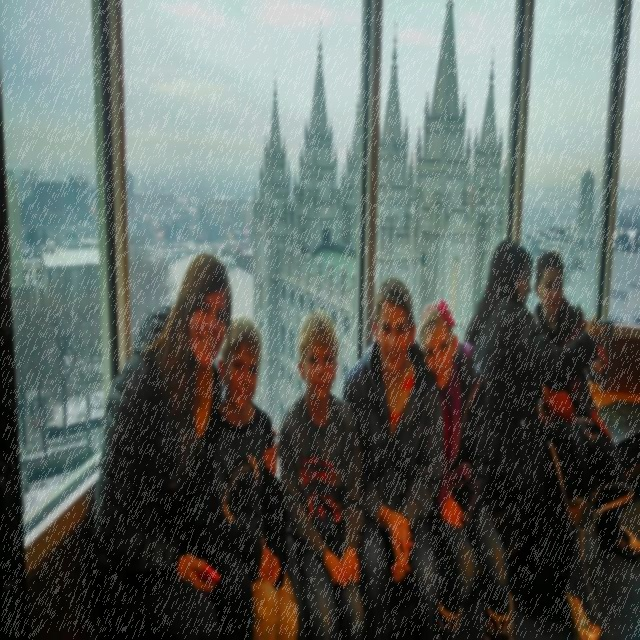pessoa: (463, 239, 612, 626), (88, 252, 234, 639), (342, 276, 446, 640), (532, 246, 638, 566), (418, 298, 517, 640), (276, 308, 366, 640), (205, 314, 290, 640)
